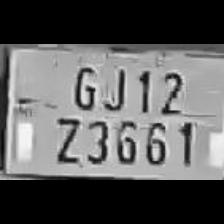1: (128, 63, 154, 113), (172, 118, 196, 166)
2: (154, 66, 184, 116)
3: (81, 114, 109, 164)
6: (140, 118, 170, 166), (112, 118, 138, 164)
G: (68, 60, 98, 110)
J: (100, 62, 128, 110)
Z: (50, 114, 80, 164)
